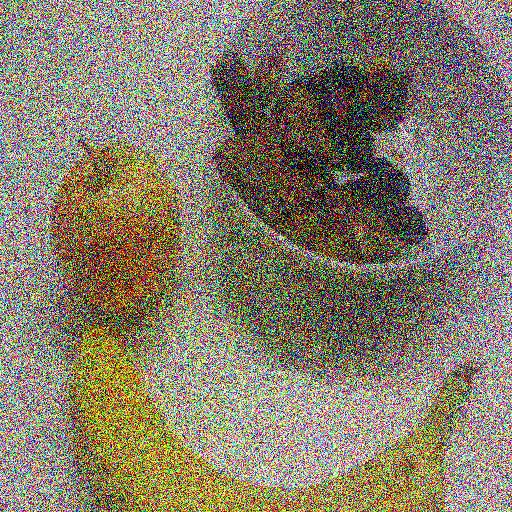fruit: (148, 123, 486, 382), (139, 120, 442, 360), (33, 208, 112, 512), (24, 118, 85, 389)
